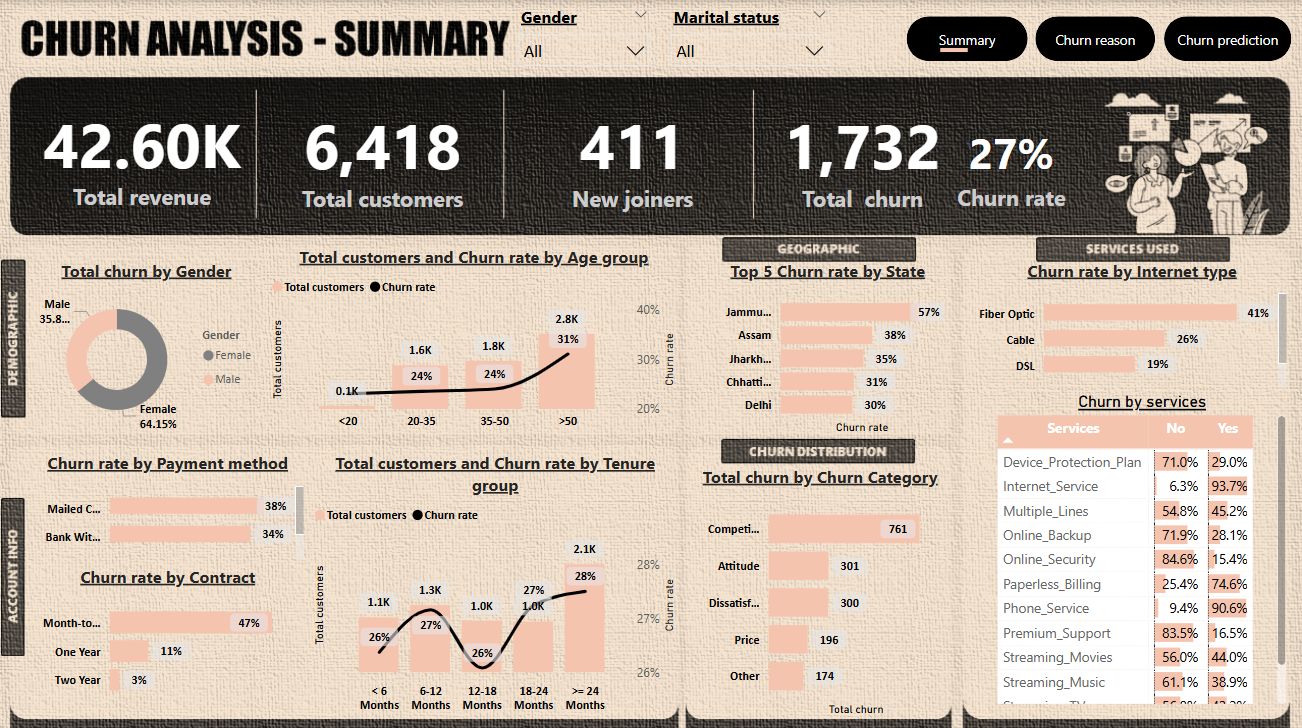

What the dashboard file says about the page in this screenshot:
{"tool":"powerbi","page":{"name":"Summary","canvas":[1280,720],"ordinal":0},"visuals":[{"type":"shape","box":[890.8,16,119,44.2],"z":0},{"type":"card","fields":{"Values":["Tble_measures.Total customers"]},"box":[254,81,245.4,147.2],"z":1000},{"type":"card","fields":{"Values":["Tble_measures.Total  churn"]},"box":[739.9,81,216,147.2],"z":2000},{"type":"card","fields":{"Values":["Tble_measures.Churn rate"]},"box":[931.8,110.9,125.3,106.6],"z":3000},{"type":"card","fields":{"Values":["Tble_measures.New joiners"]},"box":[499.4,81,245.4,147.2],"z":4000},{"type":"donutChart","title":"Total churn by Gender","fields":{"Category":["prod_Churn.Gender"],"Y":["Tble_measures.Total  churn"]},"box":[27,254,235.6,176.7],"z":5000},{"type":"lineStackedColumnComboChart","fields":{"Category":["Age_group.Age_grp"],"Y":["Tble_measures.Total customers"],"Y2":["Tble_measures.Churn rate"]},"box":[262.6,240.5,407.4,190.2],"z":6000},{"type":"clusteredBarChart","fields":{"Category":["prod_Churn.Payment_Method"],"Y":["Tble_measures.Churn rate"]},"box":[27,442.9,277.3,111.7],"z":7000},{"type":"barChart","fields":{"Category":["prod_Churn.Contract"],"Y":["Tble_measures.Churn rate"]},"box":[27,554.6,277.3,141.1],"z":8000},{"type":"lineStackedColumnComboChart","fields":{"Category":["Tenure_group.Tenure_grp"],"Y":["Tble_measures.Total customers"],"Y2":["Tble_measures.Churn rate"]},"box":[304.3,442.9,365.6,265],"z":9000},{"type":"clusteredBarChart","title":"Top 5 Churn rate by State","fields":{"Category":["prod_Churn.State"],"Y":["Tble_measures.Churn rate"]},"box":[694.5,254,238,176.7],"z":10000},{"type":"barChart","fields":{"Category":["prod_Churn.Churn_Category"],"Y":["Tble_measures.Total  churn"]},"box":[679.8,456.4,252.8,251.5],"z":11000},{"type":"clusteredBarChart","fields":{"Category":["prod_Churn.Internet_Type"],"Y":["Tble_measures.Churn rate"]},"box":[955.8,254,312.9,131.3],"z":12000},{"type":"pivotTable","title":"Churn by services","fields":{"Rows":["Prod_services.Services"],"Values":["Sum(Prod_services.Churn_status)"],"Columns":["Prod_services.Status"]},"box":[975.5,385.3,293.3,310.4],"z":13000},{"type":"shape","box":[1143.6,16,125.2,44.2],"z":14000},{"type":"shape","box":[1017.2,16,117.8,44.2],"z":15000},{"type":"slicer","fields":{"Values":["prod_Churn.Gender"]},"box":[499.4,0,149.7,72.4],"z":16000},{"type":"slicer","fields":{"Values":["Prediction.Married"]},"box":[649.1,0,175.5,77.3],"z":17000},{"type":"card","fields":{"Values":["Sum(Prediction.Total_Revenue)"]},"box":[27,78.5,227,149.7],"z":18000},{"type":"shape","box":[923.9,38,27,22.1],"z":19000}]}

Visuals, with their boxes in screenshot pixels (x1, y1, x2, y2), scaled from the page's 1280x720 canvas onto the 1302x728 screenshot:
shape: BBox(906, 16, 1027, 61)
card - Tble_measures.Total customers: BBox(258, 82, 508, 231)
card - Tble_measures.Total  churn: BBox(753, 82, 972, 231)
card - Tble_measures.Churn rate: BBox(948, 112, 1075, 220)
card - Tble_measures.New joiners: BBox(508, 82, 758, 231)
"Total churn by Gender" donutChart: BBox(27, 257, 267, 435)
lineStackedColumnComboChart - Age_group.Age_grp x Tble_measures.Total customers: BBox(267, 243, 682, 435)
clusteredBarChart - prod_Churn.Payment_Method x Tble_measures.Churn rate: BBox(27, 448, 310, 561)
barChart - prod_Churn.Contract x Tble_measures.Churn rate: BBox(27, 561, 310, 703)
lineStackedColumnComboChart - Tenure_group.Tenure_grp x Tble_measures.Total customers: BBox(310, 448, 681, 716)
"Top 5 Churn rate by State" clusteredBarChart: BBox(706, 257, 949, 435)
barChart - prod_Churn.Churn_Category x Tble_measures.Total  churn: BBox(691, 461, 949, 716)
clusteredBarChart - prod_Churn.Internet_Type x Tble_measures.Churn rate: BBox(972, 257, 1291, 390)
"Churn by services" pivotTable: BBox(992, 390, 1291, 703)
shape: BBox(1163, 16, 1291, 61)
shape: BBox(1035, 16, 1155, 61)
slicer - prod_Churn.Gender: BBox(508, 0, 660, 73)
slicer - Prediction.Married: BBox(660, 0, 839, 78)
card - Sum(Prediction.Total_Revenue): BBox(27, 79, 258, 231)
shape: BBox(940, 38, 967, 61)
